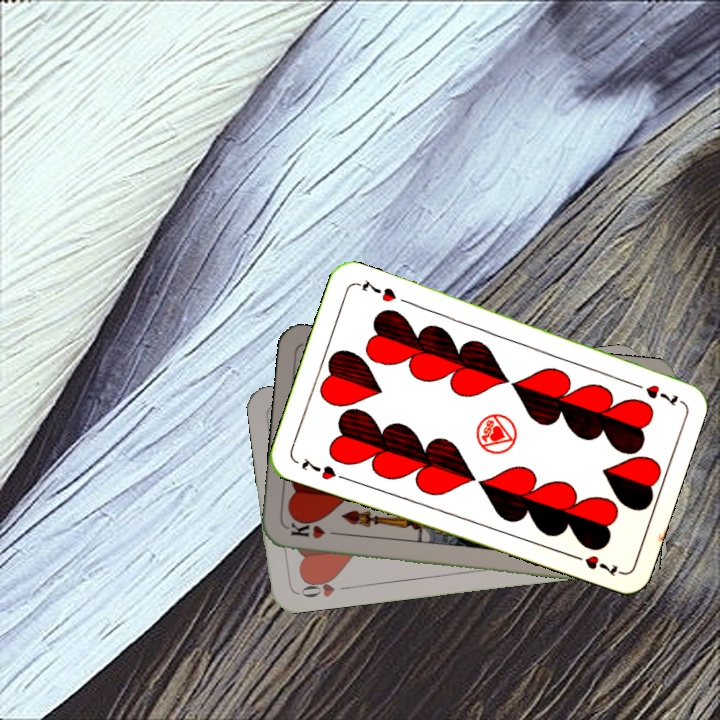H7: (626, 377, 681, 406), (297, 454, 350, 483)
HK: (286, 518, 345, 541)
HO: (294, 572, 353, 600)
